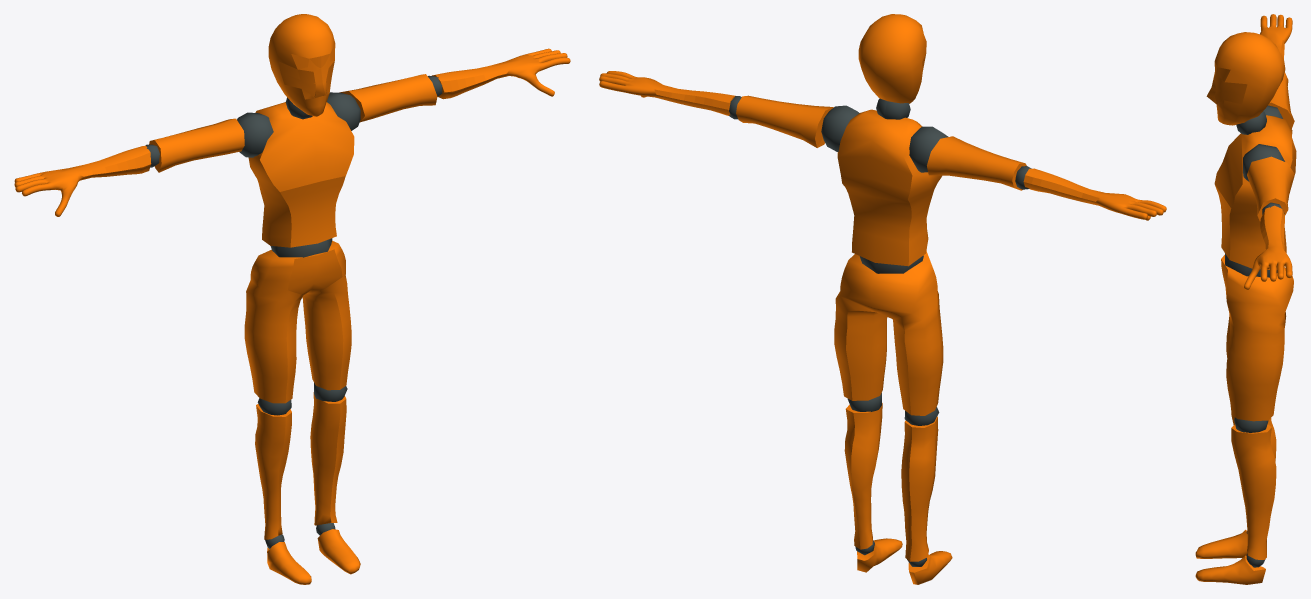
File: OpenBotSkeleton.fbx
The picture shows the model from 3 angles, left to right: view 1: azimuth 30°, elevation 25°; view 2: azimuth 150°, elevation 25°; view 3: azimuth 270°, elevation 25°; orthographic projection. The views are drawn at different scales.
Parts seen in each view (by area): view 1: OpenBot; view 2: OpenBot; view 3: OpenBot.
Boxes of the visible parts, <box> form: OpenBot: <box>14,14,570,584</box>; OpenBot: <box>599,14,1166,584</box>; OpenBot: <box>1195,14,1296,584</box>.
Size of the model in its own units: 194 by 183 by 31.33.
